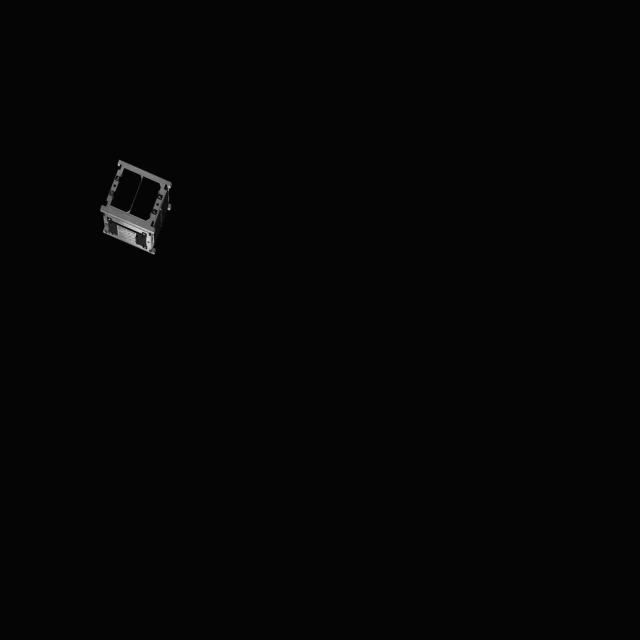medium_debris: (99, 156, 180, 261)
